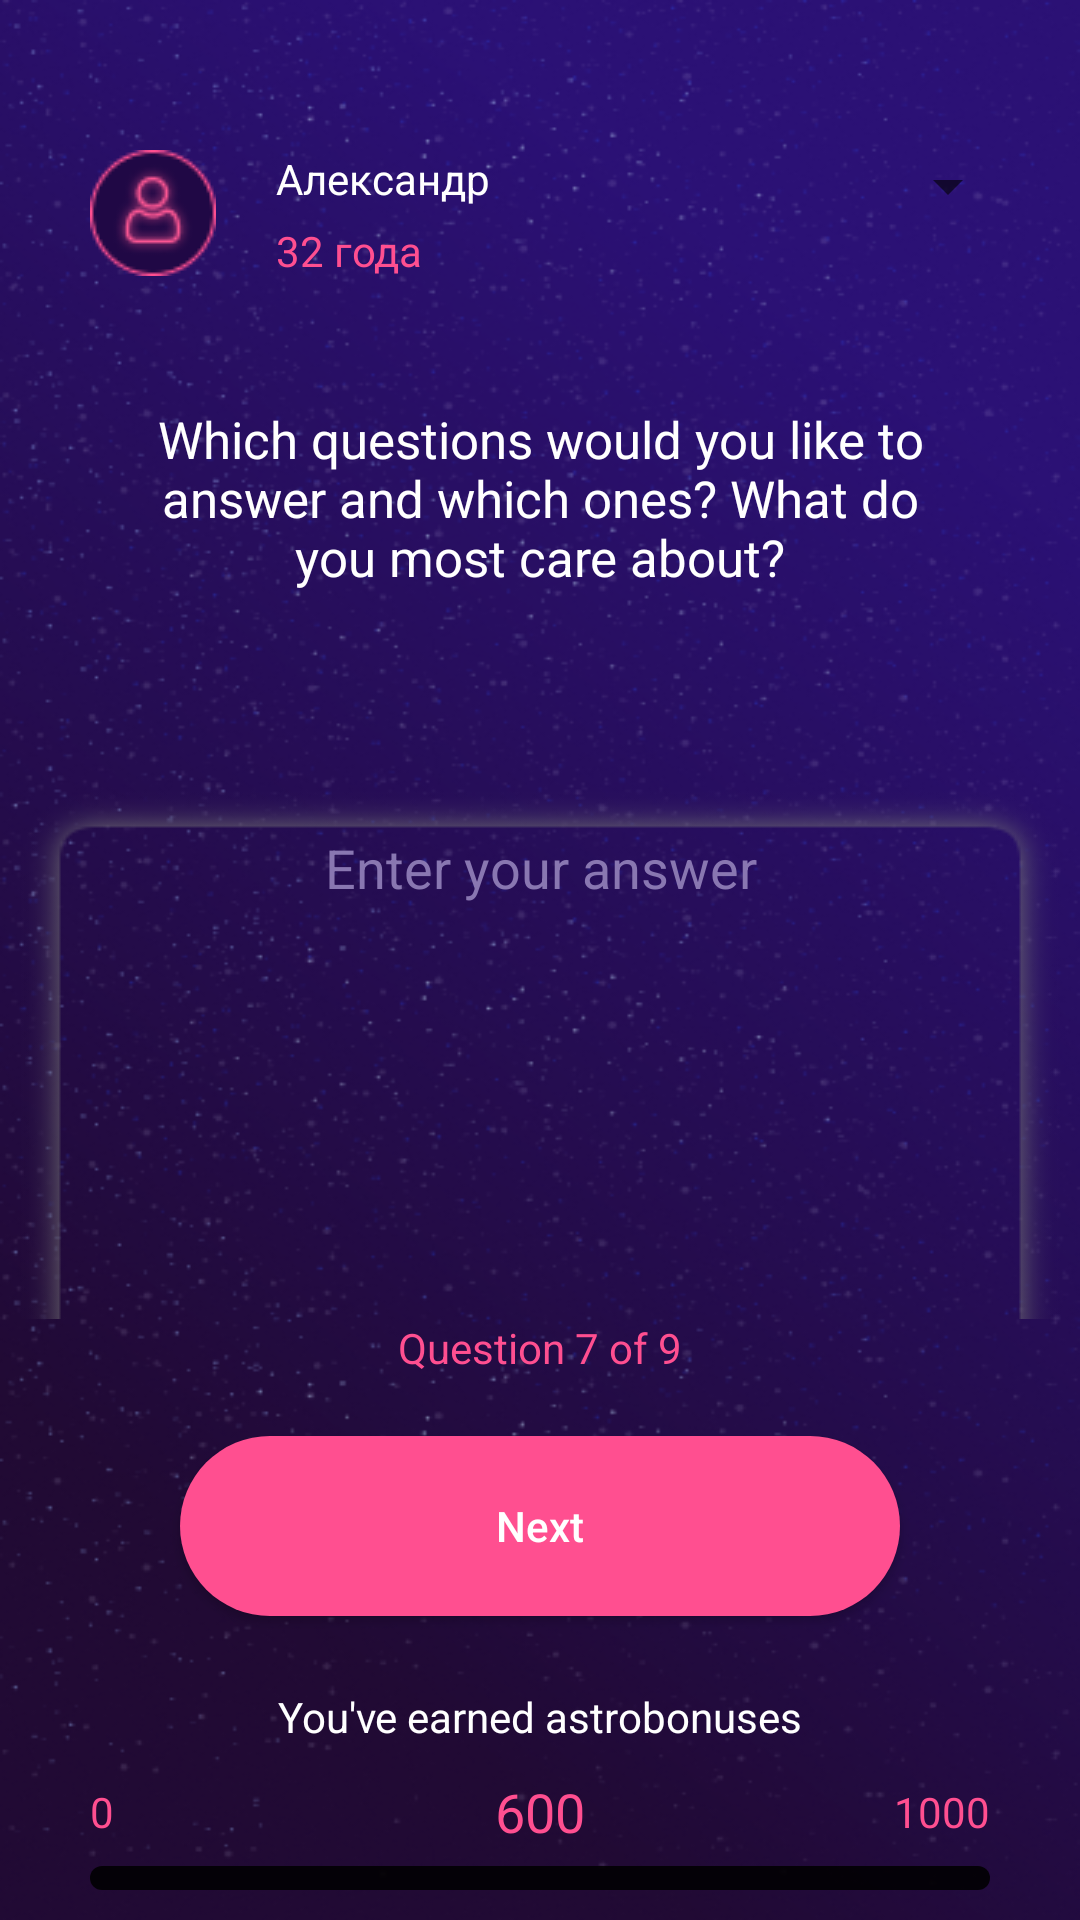

Where icons sit on this 1080 x 1920 app screen, as (left=x1, top=y1, right=x2, bottom=y2):
user: (left=90, top=150, right=216, bottom=276)
